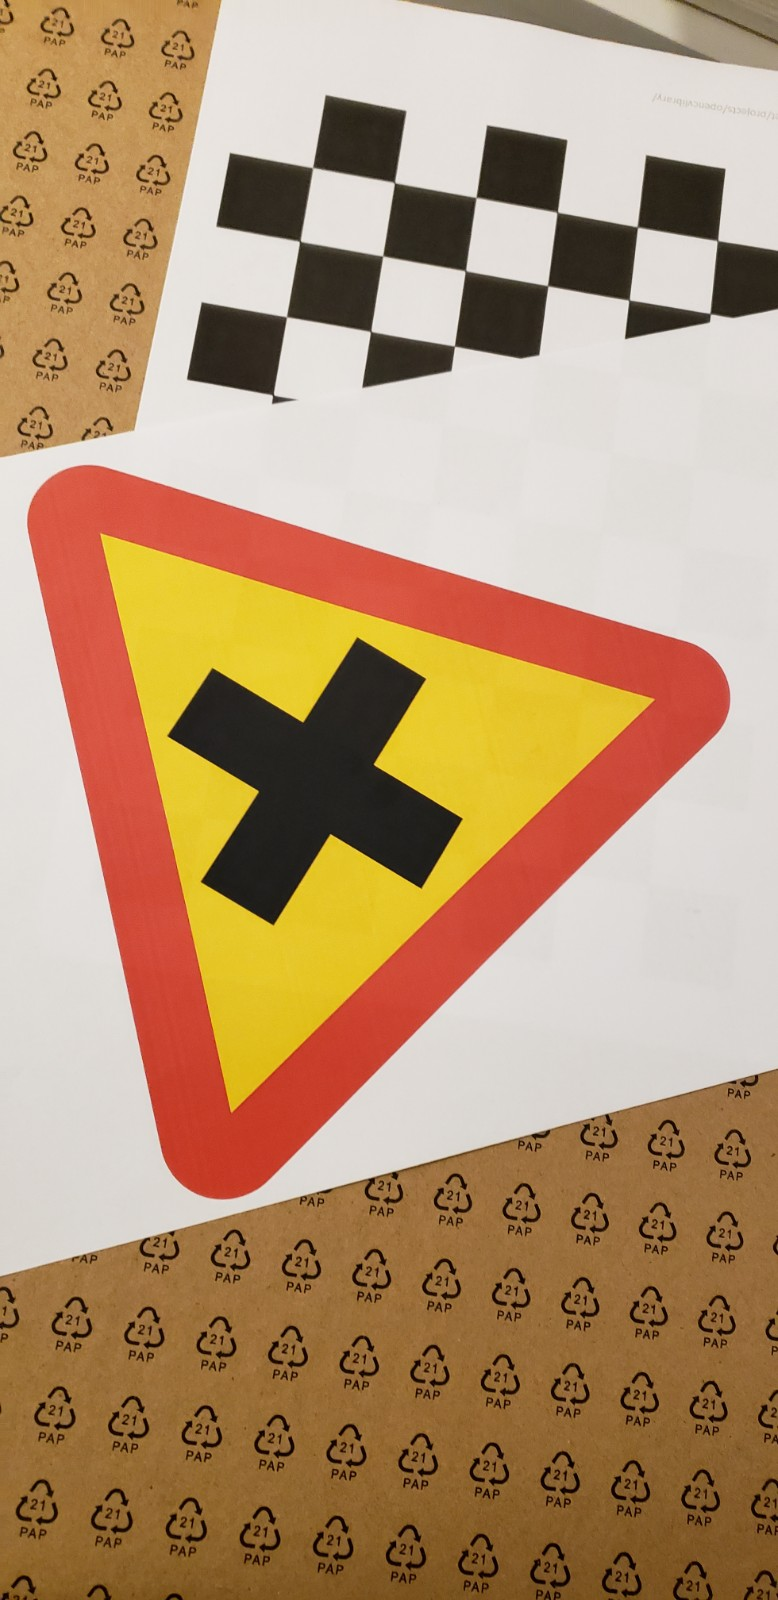junction: (26, 448, 755, 1239)
